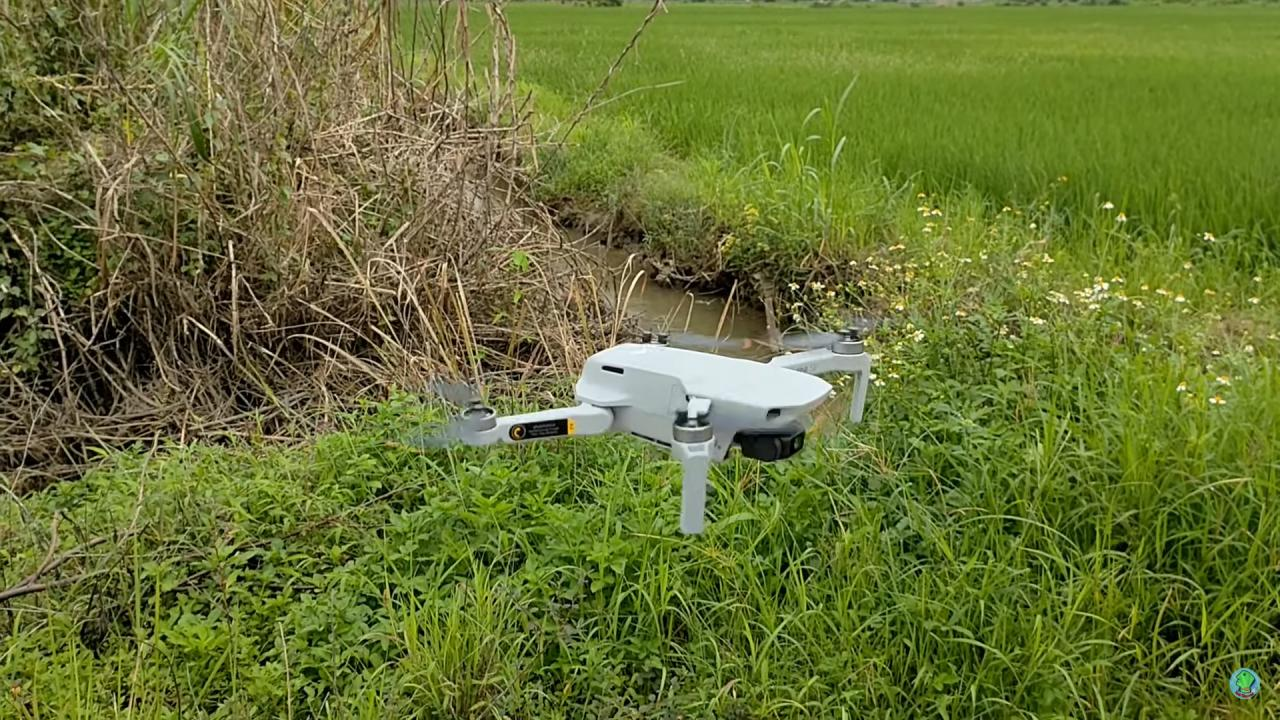Drone: (387, 296, 953, 546)
